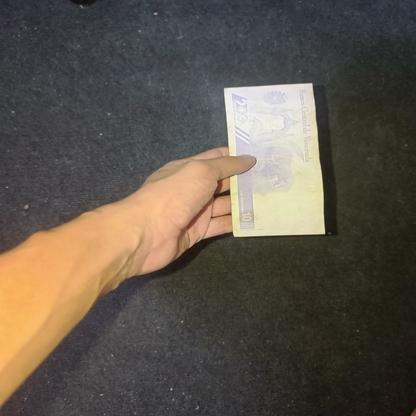ten-back-vef: (222, 84, 326, 236)
